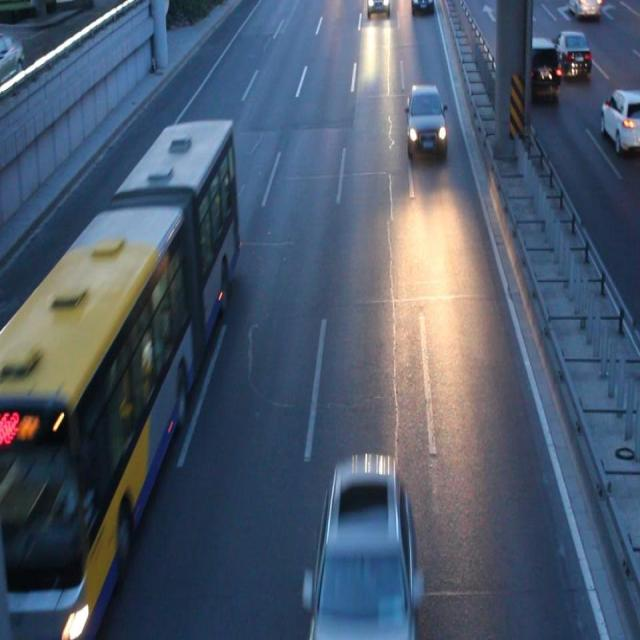car: (313, 456, 414, 640), (509, 39, 558, 95), (406, 85, 446, 152), (599, 89, 640, 150), (546, 31, 588, 76), (566, 1, 600, 19), (366, 1, 389, 19), (411, 1, 432, 14)
van: (1, 124, 235, 620)
